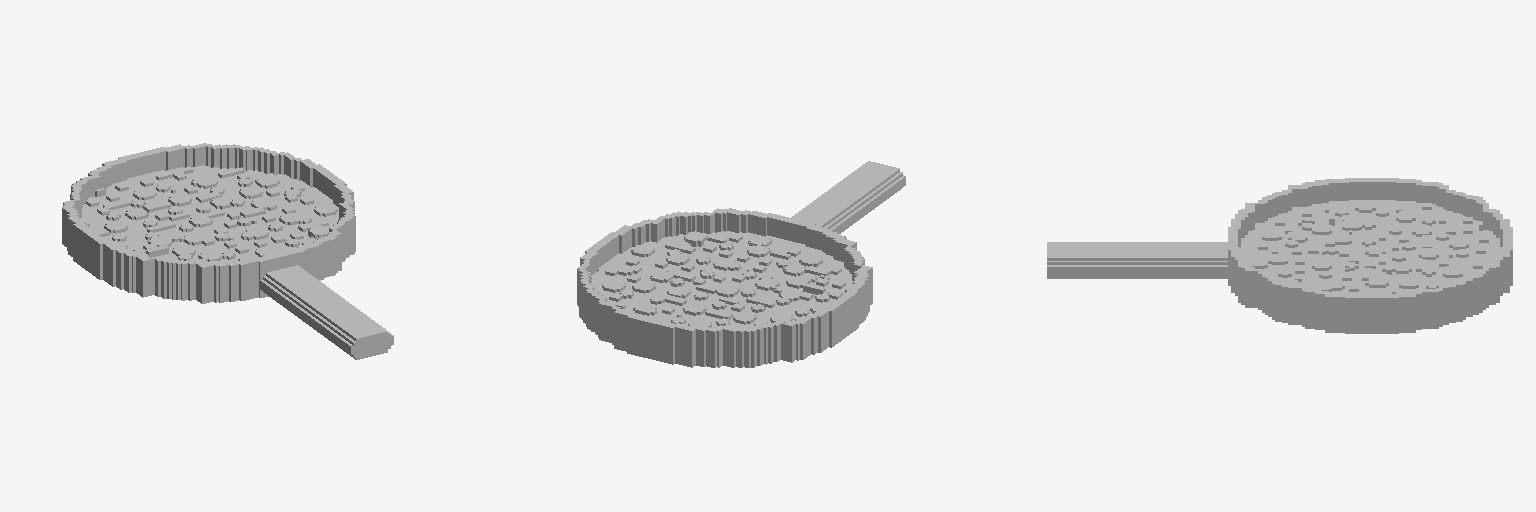
The model's file is SartenArrozTomateCarneCebollaGambas.obj.
3 renders of one model, left to right at view 1: azimuth 30°, elevation 25°; view 2: azimuth 150°, elevation 25°; view 3: azimuth 270°, elevation 25°, orthographic.
Visible parts, largest first — view 1: object 1; view 2: object 1; view 3: object 1.
Part boxes in pixels (x1,y1,x2,y2): object 1: (62, 143, 393, 359); object 1: (577, 161, 905, 367); object 1: (1047, 178, 1512, 333).
Bounding box in the file's own units: 8.5 × 1.2 × 13.9.